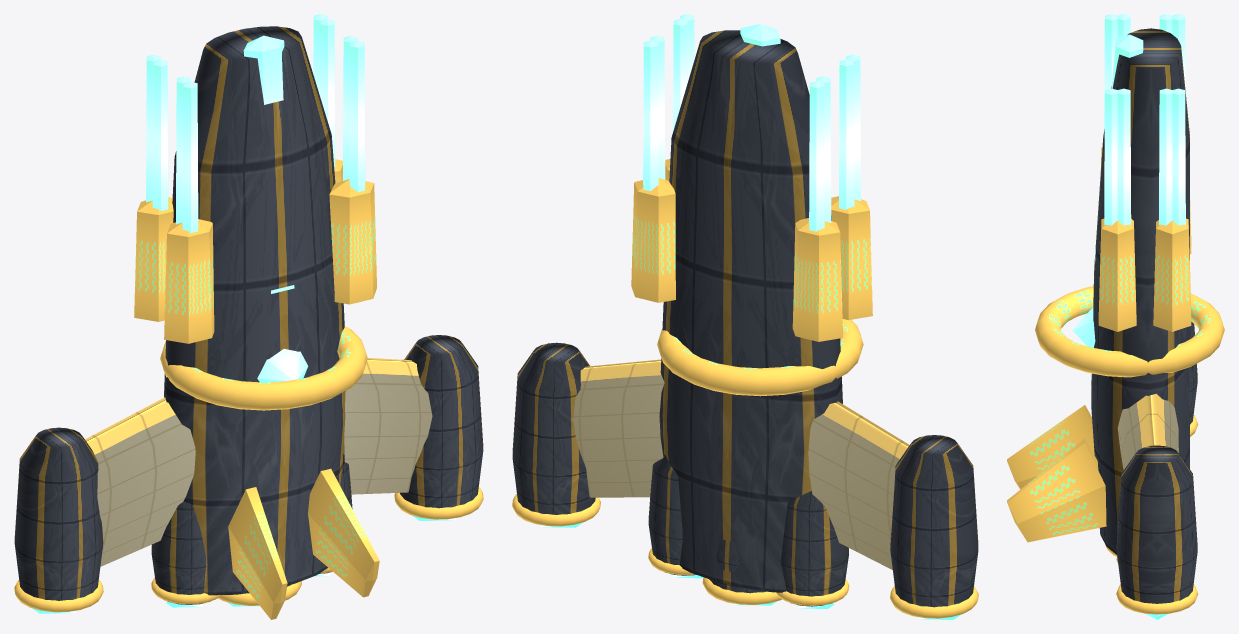
The model's file is ship_s1_zion_breaker.glb.
3 views of the same model, side by side, from view 1: azimuth 30°, elevation 25°; view 2: azimuth 150°, elevation 25°; view 3: azimuth 270°, elevation 25° (orthographic). The views are drawn at different scales.
Visible parts, largest first — view 1: ship_s1_zion_breaker; view 2: ship_s1_zion_breaker; view 3: ship_s1_zion_breaker.
Boxes of the visible parts, x1,y1,x2,y2 form: ship_s1_zion_breaker: (14, 14, 483, 619); ship_s1_zion_breaker: (512, 14, 978, 619); ship_s1_zion_breaker: (1007, 14, 1224, 619).
Bounding box in the file's own units: 3.18 × 3.83 × 1.43.
4 materials, 4 textured.
